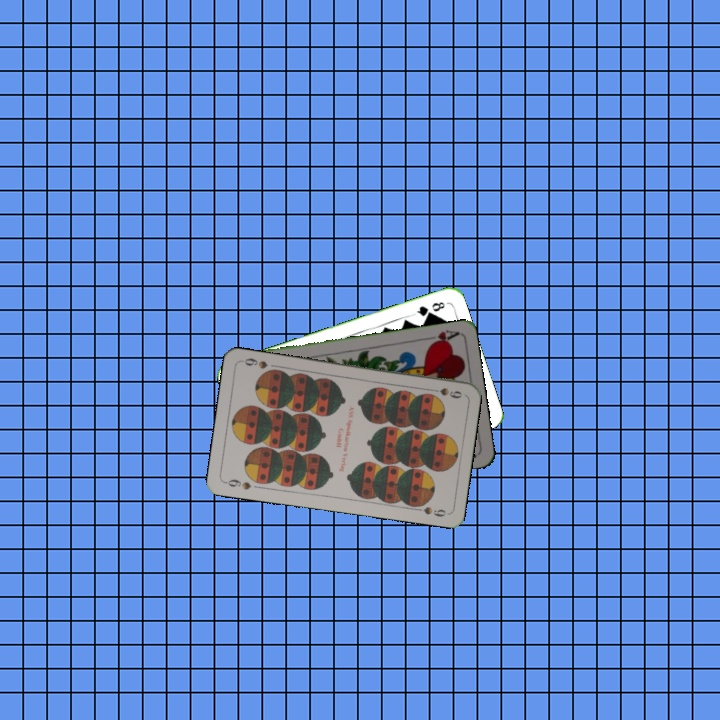G8: (410, 298, 448, 319)
HA: (420, 326, 460, 348)
S9: (425, 383, 465, 401), (221, 475, 254, 492)
